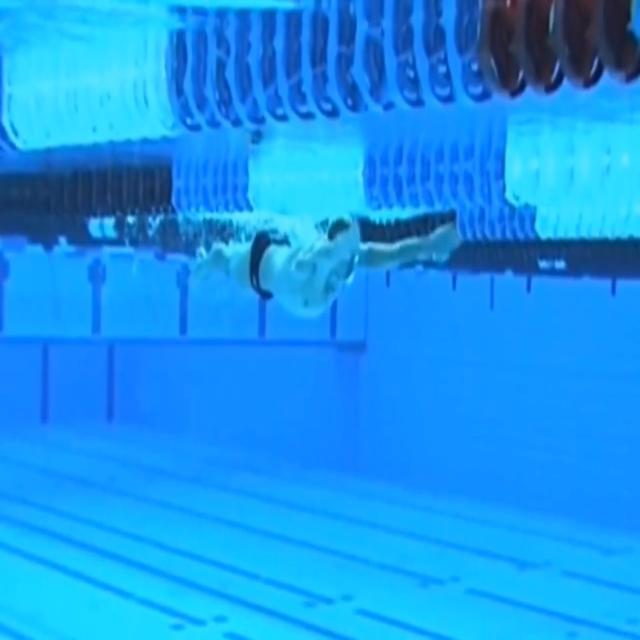Swimming: (192, 216, 462, 316)
